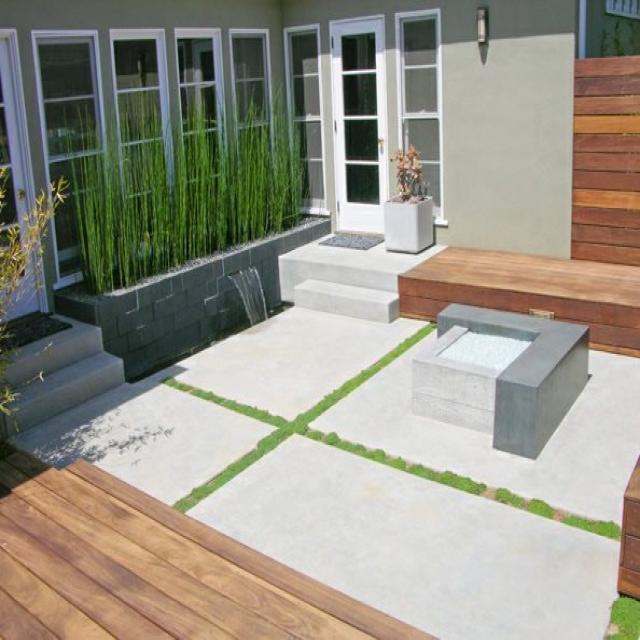Concrete: (17, 240, 640, 640)
